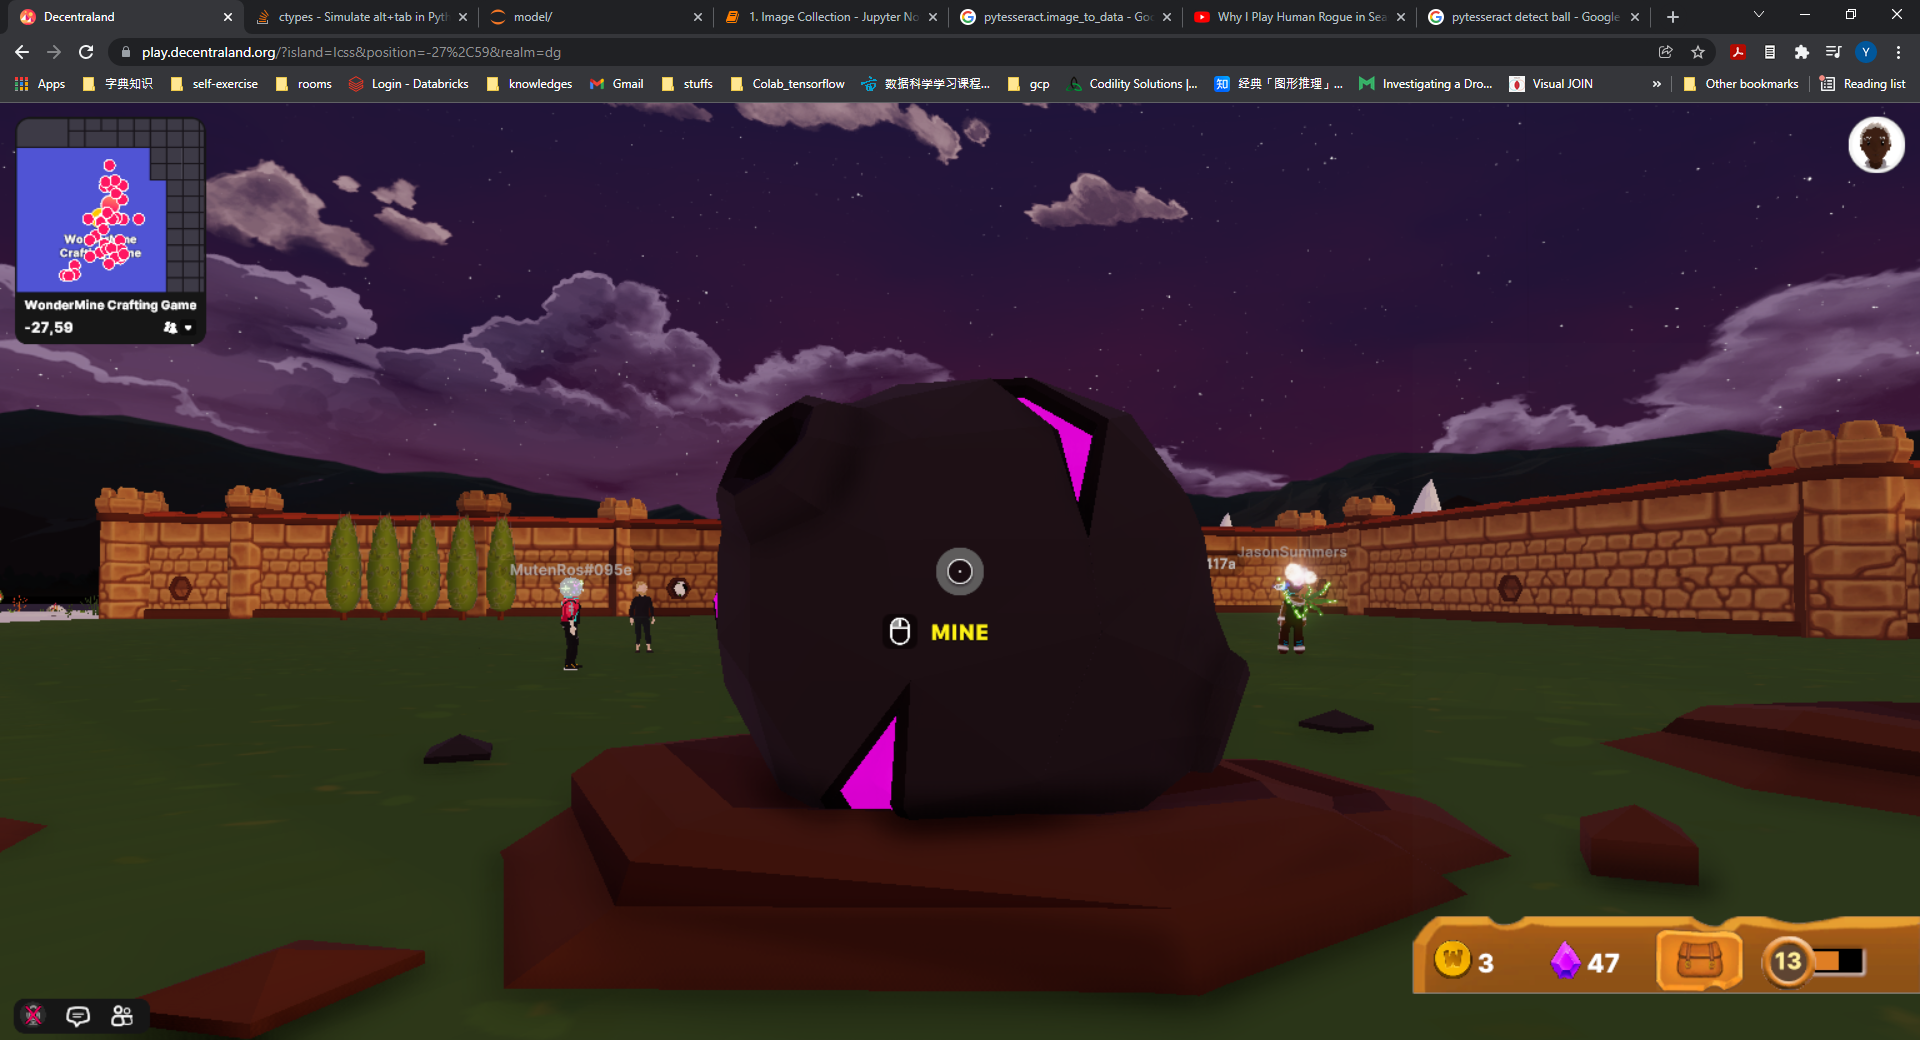black_ball: (684, 357, 1266, 899)
